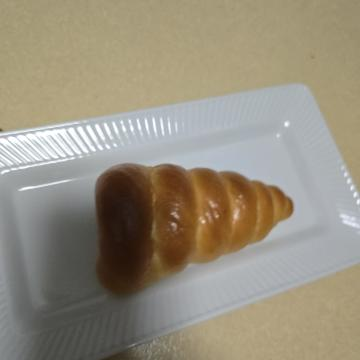cream horn: (148, 57, 312, 286)
